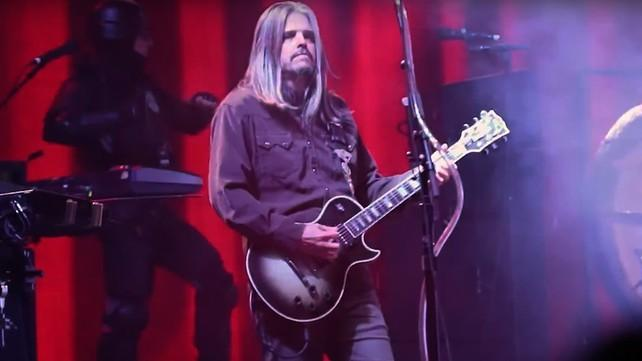acousticguitar: (244, 106, 511, 322)
